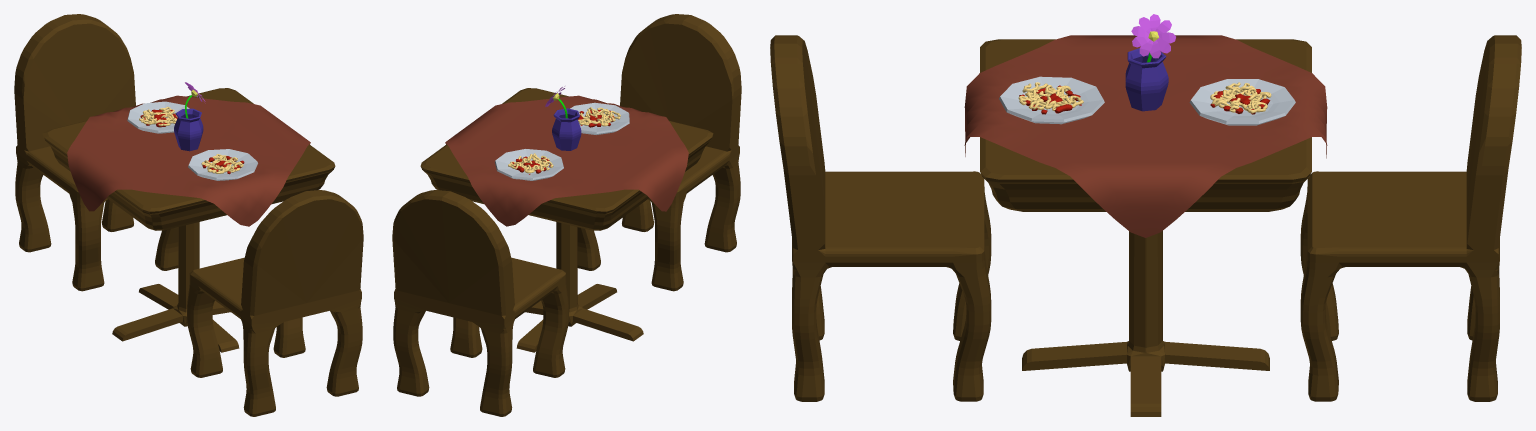
Rendered from DatePropsV1.fbx.
3 renders of one model, left to right at view 1: azimuth 30°, elevation 25°; view 2: azimuth 150°, elevation 25°; view 3: azimuth 270°, elevation 25°, orthographic. The views are drawn at different scales.
Parts seen in each view (by area): view 1: Cube.001, Cube.002, Cube, Plane.002, Cylinder, Plane.015, Liquid Domain.001; view 2: Cube.001, Cube.002, Cube, Plane.002, Cylinder, Plane.015, Liquid Domain.001; view 3: Cube.001, Cube.002, Cube, Plane.002, Plane.015, Cylinder, Cylinder.002, Liquid Domain.001.
Boxes of the visible parts, <box> form: Cube.001: <box>14,14,363,416</box>; Cube.002: <box>67,95,310,226</box>; Cube: <box>42,88,335,352</box>; Plane.002: <box>127,101,257,180</box>; Cylinder: <box>174,108,203,151</box>; Plane.015: <box>139,106,243,173</box>; Liquid Domain.001: <box>140,109,244,174</box>; Cube.001: <box>392,14,741,416</box>; Cube.002: <box>445,95,688,226</box>; Cube: <box>420,88,713,352</box>; Plane.002: <box>494,102,629,180</box>; Cylinder: <box>552,108,581,150</box>; Plane.015: <box>508,107,620,173</box>; Liquid Domain.001: <box>512,109,614,174</box>; Cube.001: <box>770,35,1521,401</box>; Cube.002: <box>964,35,1327,237</box>; Cube: <box>980,39,1311,416</box>; Plane.002: <box>999,76,1295,125</box>; Plane.015: <box>1018,82,1271,113</box>; Cylinder: <box>1125,48,1168,111</box>; Cylinder.002: <box>1131,14,1175,58</box>; Liquid Domain.001: <box>1019,85,1270,114</box>.
Size of the model in its own units: 203 by 226 by 439.
